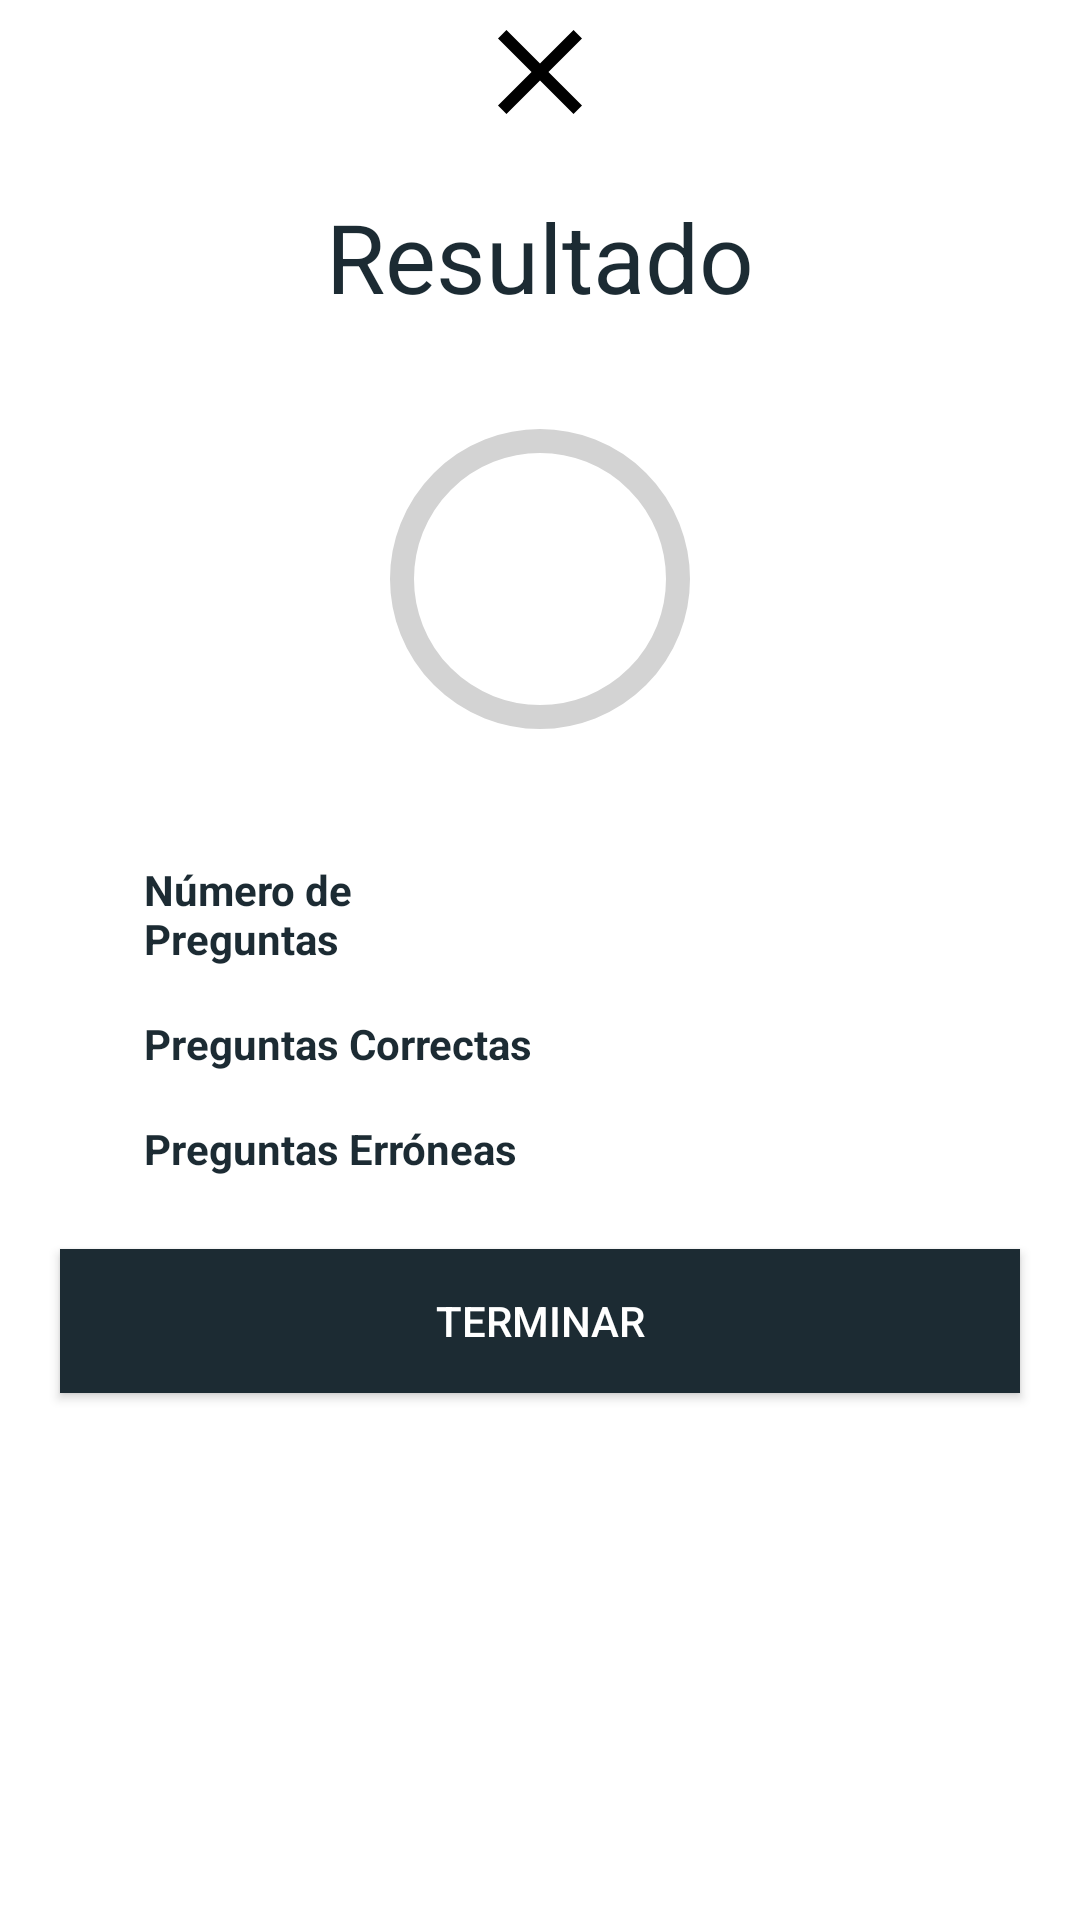

Screen size 1080px×1920px. Icon name, then its center in pixels as (x,y):
Cerrar Pantalla: (540,72)
